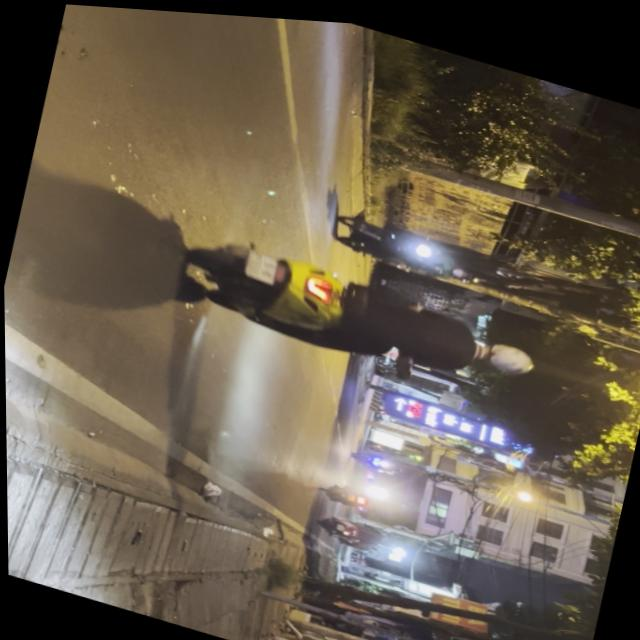helmet: (476, 327, 538, 372)
licenseplate: (170, 215, 547, 405)
nohelmet: (244, 244, 281, 280)
